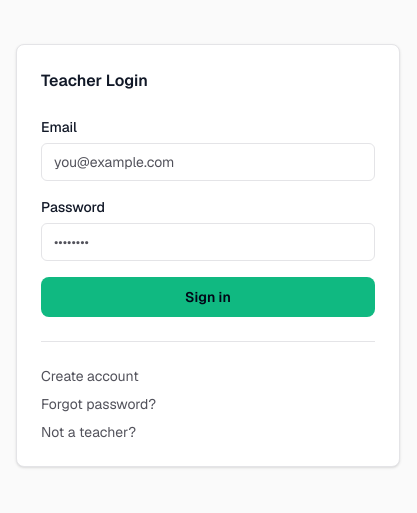
Test: teacher login form › recovers pending state after a thrown configuration failure
Type "teacher@example.com" into the field labelled "Email" at [208, 162], box 41,142 -> 375,180
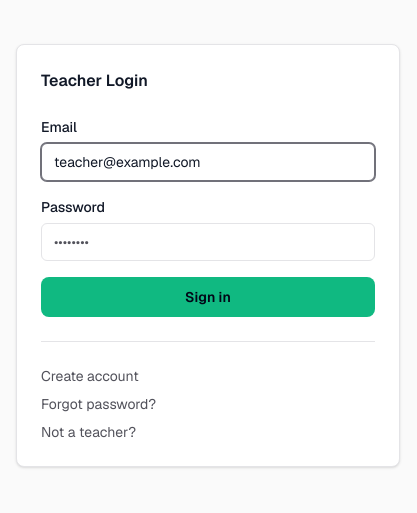
Type "Test123!" into the password field labelled "Password" at [208, 242], box 41,222 -> 375,260
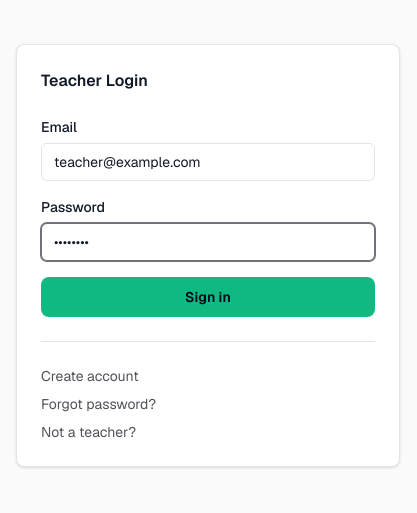
Click the button "Sign in" at [208, 296], box 41,276 -> 375,316
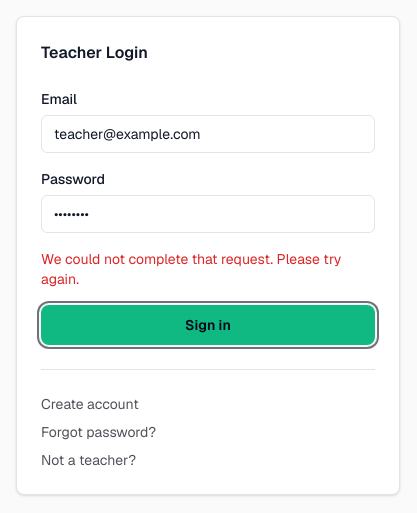
Expected: the button "Sign in" is enabled, 41,304 -> 375,344
Expected: the message reads "We could not complete that request. Please try again.", 41,250 -> 341,288
